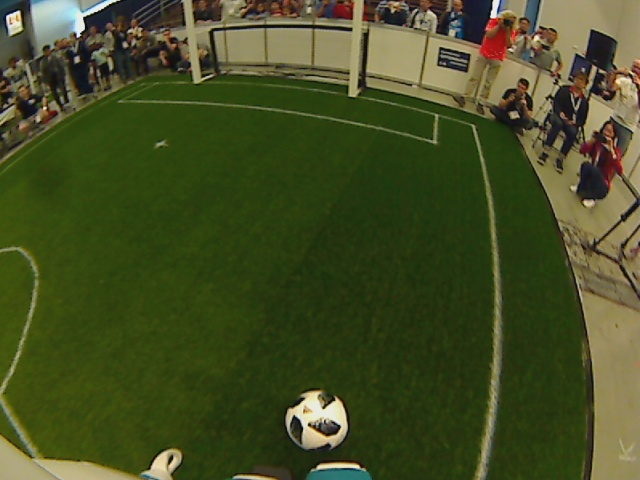ball: (282, 388, 349, 451)
